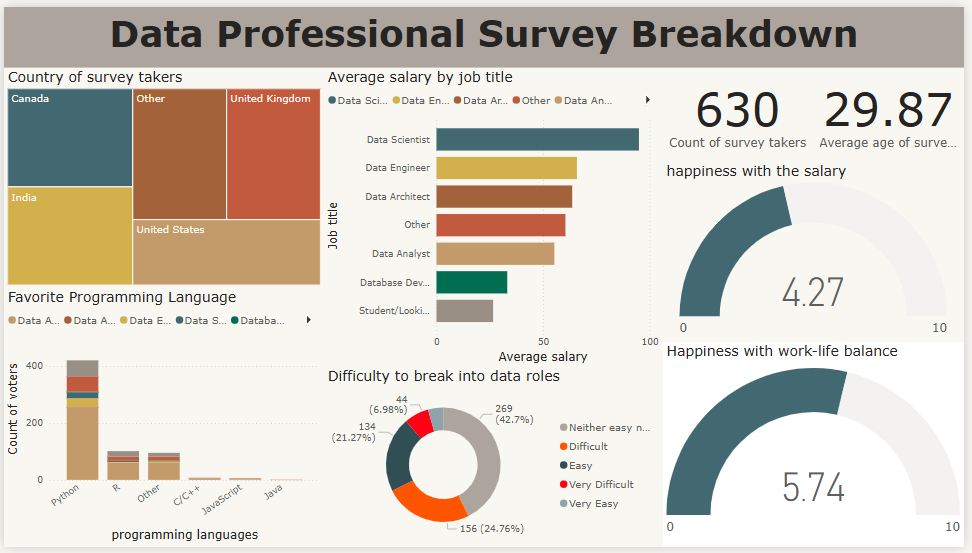

What the dashboard file says about the page in this screenshot:
{"tool":"powerbi","page":{"name":"Page 1","canvas":[1280,720],"ordinal":0},"visuals":[{"type":"textbox","box":[0,0,1279.7,80.9],"z":0},{"type":"card","fields":{"Values":["Count(Data Professional Survey (2).Unique ID)"]},"box":[878.6,81.4,200,122.9],"z":1000},{"type":"card","fields":{"Values":["Avg(Data Professional Survey (2).Q10 - Current Age)"]},"box":[1078.6,81.4,201.4,122.9],"z":2000},{"type":"barChart","title":"Average salary by job title","fields":{"Category":["Data Professional Survey (2).Q1 - Which Title Best Fits your Current Role?.1"],"Y":["Avg(Data Professional Survey (2).Average Salary)"],"Series":["Data Professional Survey (2).Q1 - Which Title Best Fits your Current Role?.1"]},"box":[427.1,81.4,451.4,398.6],"z":3000},{"type":"columnChart","title":"Favorite Programming Language","fields":{"Category":["Data Professional Survey (2).Q5 - Favorite Programming Language.1"],"Y":["Count(Data Professional Survey (2).Unique ID)"],"Series":["Data Professional Survey (2).Q1 - Which Title Best Fits your Current Role?.1"]},"box":[0,375.7,425.7,342.9],"z":4000},{"type":"treemap","title":"Country of survey takers","fields":{"Group":["Data Professional Survey (2).Q11 - Which Country do you live in?.1"],"Values":["Count(Data Professional Survey (2).Q11 - Which Country do you live in?.1)"]},"box":[0,81.4,427.1,294.3],"z":5000},{"type":"gauge","title":"Happiness with work-life balance","fields":{"Y":["Avg(Data Professional Survey (2).Q6 - How Happy are you in your Current Position with the following? (Work/Life Balance)"],"MinValue":["Min(Data Professional Survey (2).Q6 - How Happy are you in your Current Position with the following? (Work/Life Balance)"],"MaxValue":["Max(Data Professional Survey (2).Q6 - How Happy are you in your Current Position with the following? (Work/Life Balance)"]},"box":[878,447.2,402,272.6],"z":6000},{"type":"gauge","title":"happiness with the salary","fields":{"MinValue":["Min(Data Professional Survey (2).Q6 - How Happy are you in your Current Position with the following? (Salary))"],"MaxValue":["Max(Data Professional Survey (2).Q6 - How Happy are you in your Current Position with the following? (Salary))"],"Y":["Avg(Data Professional Survey (2).Q6 - How Happy are you in your Current Position with the following? (Salary))"]},"box":[878,207.3,402,239.9],"z":7000},{"type":"donutChart","title":"Difficulty to break into data roles","fields":{"Category":["Data Professional Survey (2).Q7 - How difficult was it for you to break into Data?"],"Y":["CountNonNull(Data Professional Survey (2).Q7 - How difficult was it for you to break into Data?)"]},"box":[427.1,480,451.4,238.6],"z":8000}]}

Visuals, with their boxes in screenshot pixels (x1, y1, x2, y2), scaled from the page's 1280x720 canvas onto the 972x553 screenshot:
textbox: x1=0, y1=0, x2=971, y2=62
card - Count(Data Professional Survey (2).Unique ID): x1=667, y1=63, x2=819, y2=157
card - Avg(Data Professional Survey (2).Q10 - Current Age): x1=819, y1=63, x2=971, y2=157
"Average salary by job title" barChart: x1=324, y1=63, x2=667, y2=369
"Favorite Programming Language" columnChart: x1=0, y1=289, x2=323, y2=552
"Country of survey takers" treemap: x1=0, y1=63, x2=324, y2=289
"Happiness with work-life balance" gauge: x1=667, y1=343, x2=971, y2=552
"happiness with the salary" gauge: x1=667, y1=159, x2=971, y2=343
"Difficulty to break into data roles" donutChart: x1=324, y1=369, x2=667, y2=552
